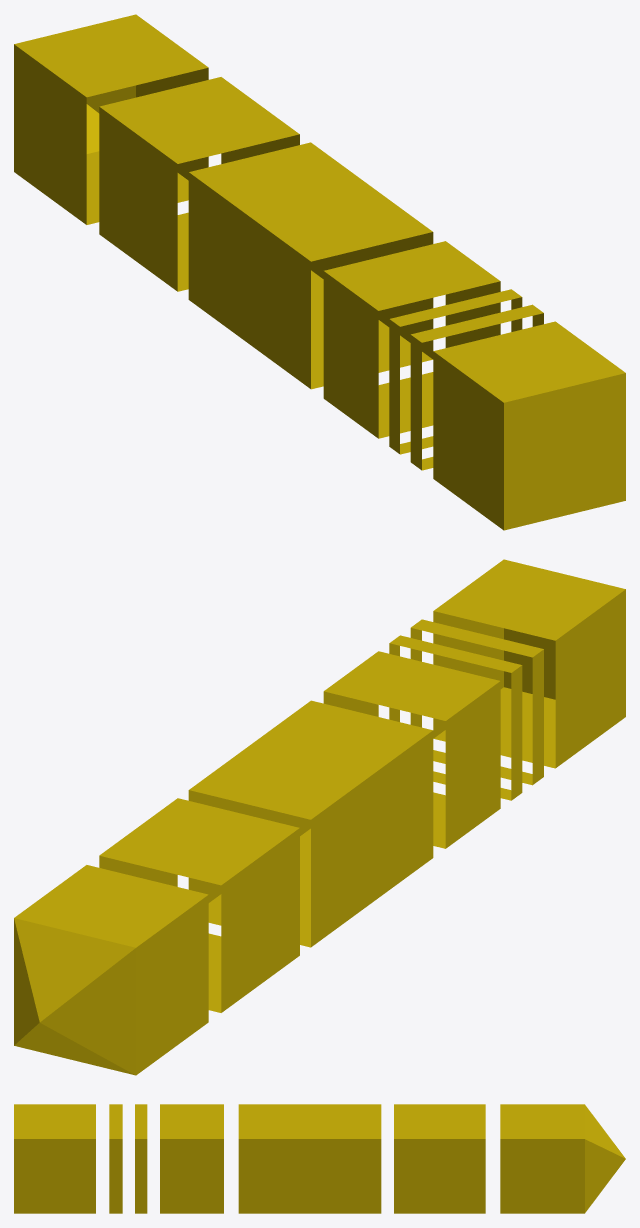
File: Пихо-Копьё(a).obj
The picture shows the model from 3 angles, top to bottom: view 1: azimuth 30°, elevation 25°; view 2: azimuth 150°, elevation 25°; view 3: azimuth 270°, elevation 25°; orthographic projection. The views are drawn at different scales.
Visible parts, largest first — view 1: Cube.001; view 2: Cube.001; view 3: Cube.001.
Boxes of the visible parts, box(x1,y1,x2,y2) form: Cube.001: box(14, 14, 625, 530); Cube.001: box(14, 559, 625, 1075); Cube.001: box(14, 1104, 625, 1213).
Size of the model in its own units: 0.7558 by 0.7558 by 5.63.
